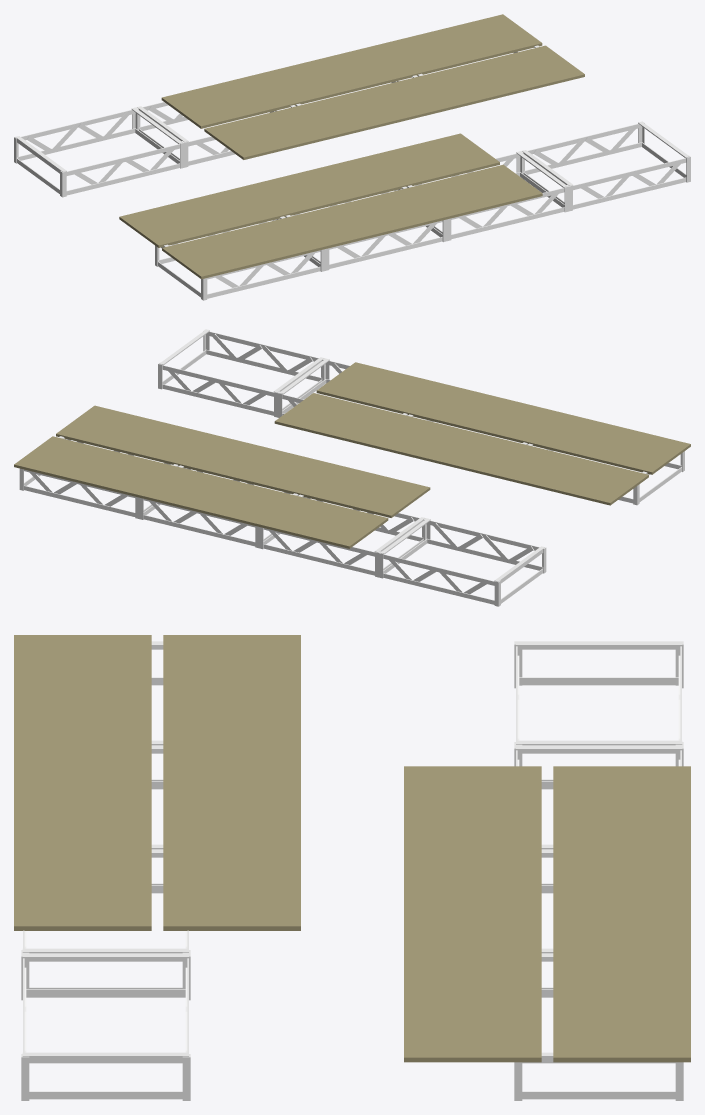
File: LStruct_ Factory_A.fbx
3 views of the same model, one above another, from view 1: azimuth 30°, elevation 25°; view 2: azimuth 150°, elevation 25°; view 3: azimuth 270°, elevation 25° (orthographic). The views are drawn at different scales.
Visible parts, largest first — view 1: Plane.001, SCAFOLDINGS.001; view 2: Plane.001, SCAFOLDINGS.001; view 3: Plane.001, SCAFOLDINGS.001.
Part boxes in pixels (box(x1,y1,x2,y2)): Plane.001: box(119, 14, 584, 279); SCAFOLDINGS.001: box(14, 45, 690, 300); Plane.001: box(14, 362, 690, 548); SCAFOLDINGS.001: box(19, 329, 684, 606); Plane.001: box(14, 635, 690, 1062); SCAFOLDINGS.001: box(21, 641, 683, 1100).
Bounding box in the file's own units: 1224 × 62.42 × 829.
